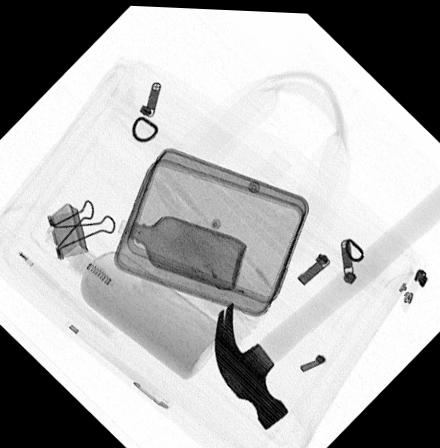Hammer: (211, 176, 440, 427)
